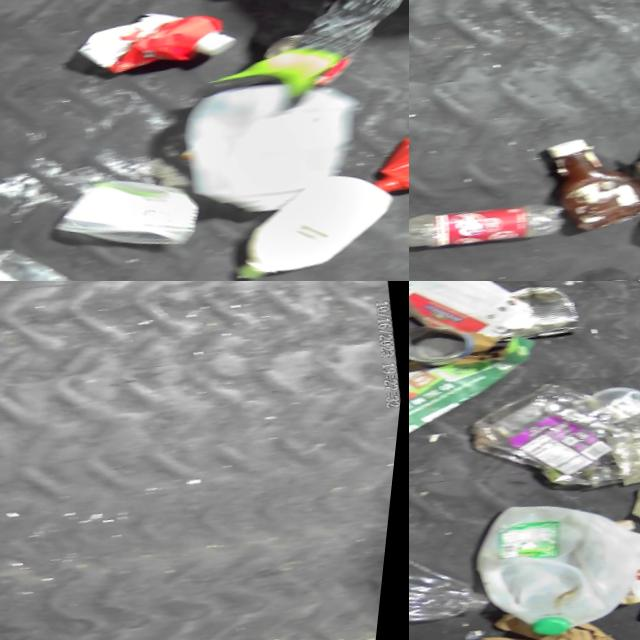can: (498, 281, 594, 338), (409, 304, 481, 368), (581, 256, 640, 281)
milk_jug: (175, 51, 384, 225), (463, 467, 640, 640)
non_white_jug: (73, 0, 247, 84), (363, 74, 409, 194)
plastic_bottle: (409, 170, 581, 265), (409, 503, 511, 640), (0, 213, 125, 281)
